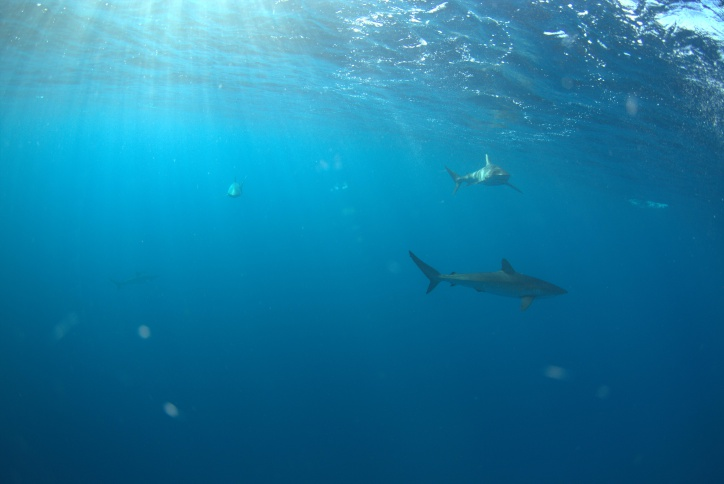Sedoso: (389, 226, 581, 324)
